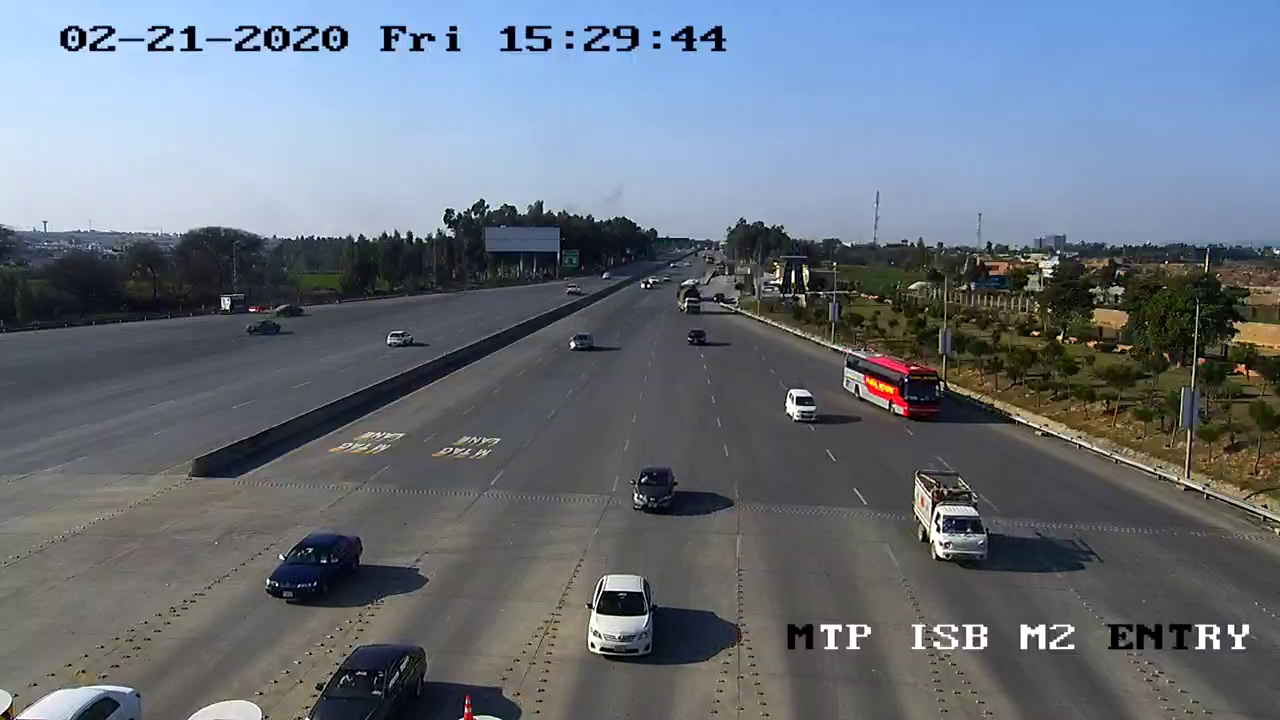f1: (574, 566, 669, 672), (260, 522, 372, 611), (625, 459, 685, 521), (775, 379, 827, 431)
f3: (897, 459, 1000, 572)
f4: (837, 345, 959, 423)
